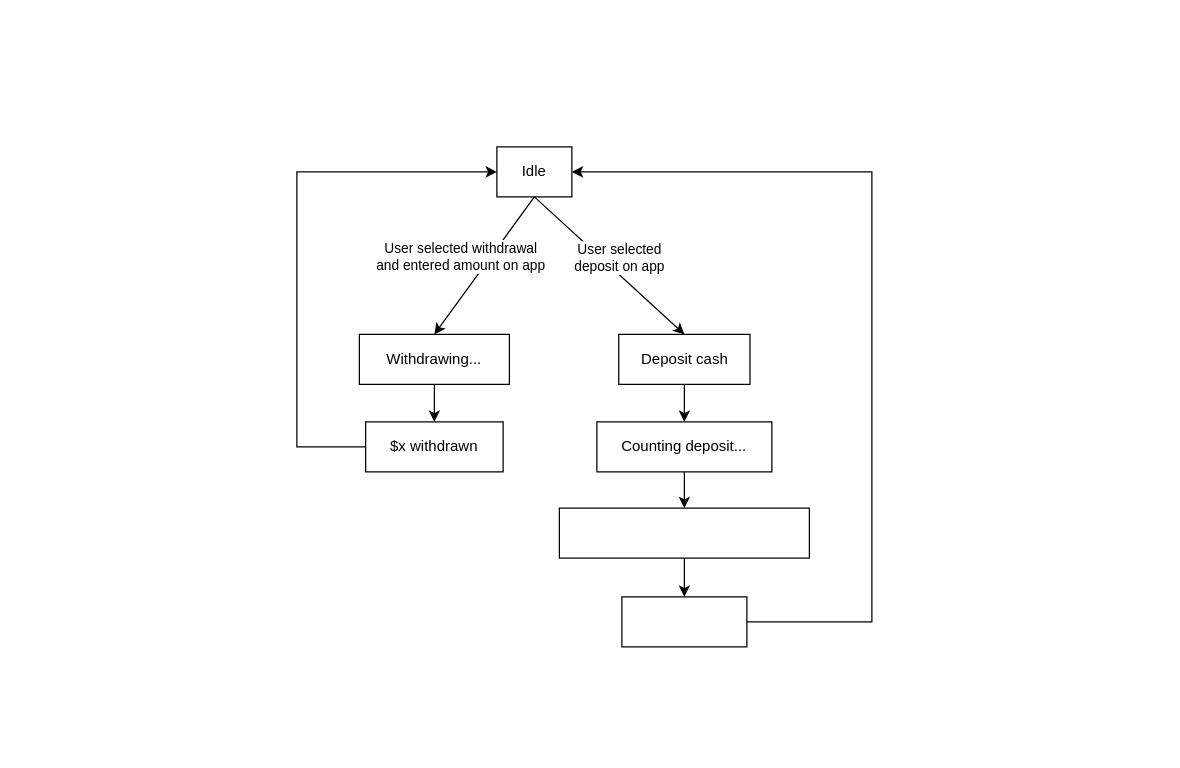
The diagram is 1180 pixels wide and 768 high, and some of its shapes have lost their labels. Here are the shapes that lost their labels. From the top down, the box of each, then its label:
(558, 507, 809, 558): Refer to phone for instructions
(621, 596, 747, 647): Received $x
